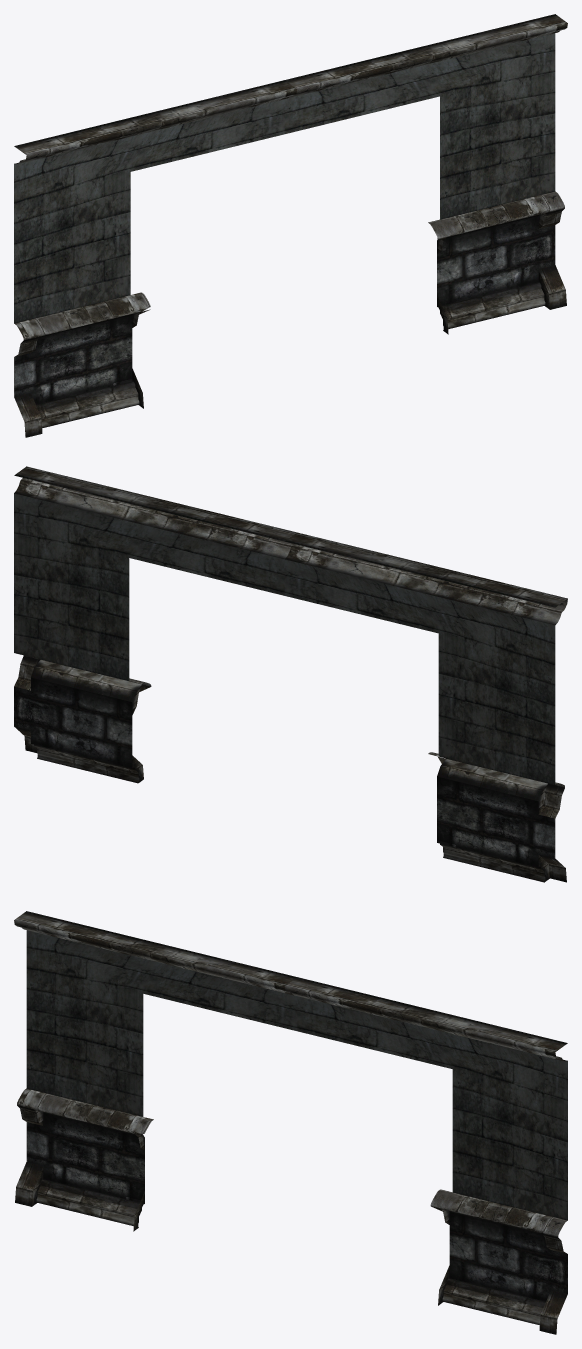
File: door_way_large_alt.dae
3 views of the same model, one above another, from view 1: azimuth 30°, elevation 25°; view 2: azimuth 150°, elevation 25°; view 3: azimuth 330°, elevation 25° (orthographic).
Parts seen in each view (by area): view 1: polySurface132; view 2: polySurface132; view 3: polySurface132.
Part boxes in pixels (x1,y1,x2,y2): polySurface132: [14, 14, 567, 437]; polySurface132: [14, 466, 567, 882]; polySurface132: [14, 911, 567, 1334].
Bounding box in the file's own units: 8 × 4 × 0.3219.
